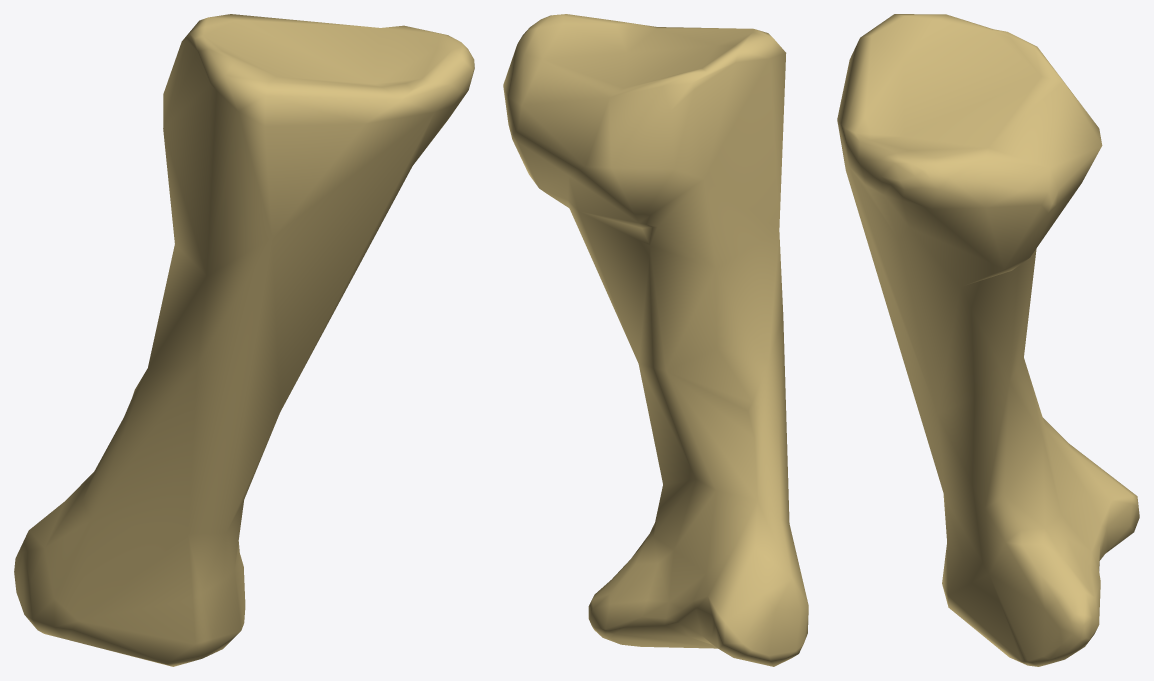
3 views of the same model, side by side, from view 1: azimuth 30°, elevation 25°; view 2: azimuth 150°, elevation 25°; view 3: azimuth 270°, elevation 25° (orthographic). The views are drawn at different scales.
Parts seen in each view (by area): view 1: 右侧第二趾近节趾骨; view 2: 右侧第二趾近节趾骨; view 3: 右侧第二趾近节趾骨.
Boxes of the visible parts, left/top/right/bottom form: 右侧第二趾近节趾骨: left=14, top=14, right=474, bottom=666; 右侧第二趾近节趾骨: left=503, top=14, right=808, bottom=666; 右侧第二趾近节趾骨: left=837, top=14, right=1139, bottom=666.
Bounding box in the file's own units: 0.0263 × 0.0433 × 0.0191.
